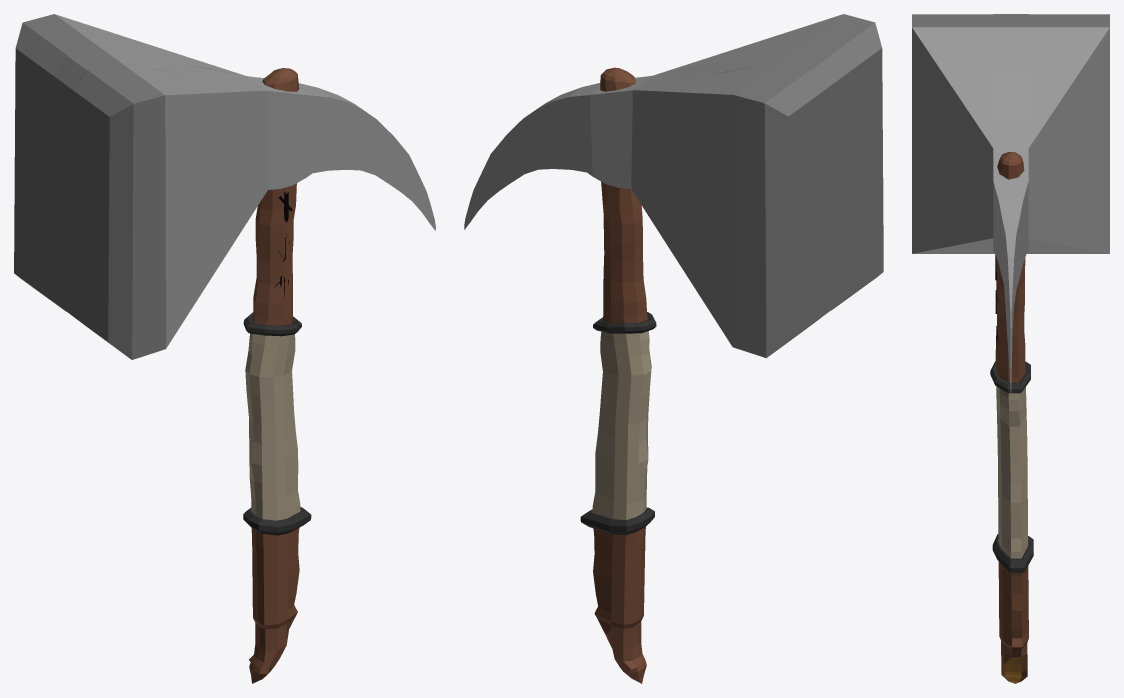
Rendered from Hammer.fbx.
3 renders of one model, left to right at view 1: azimuth 30°, elevation 25°; view 2: azimuth 150°, elevation 25°; view 3: azimuth 270°, elevation 25°, orthographic. The views are drawn at different scales.
Visible parts, largest first — view 1: Ouch, Handle; view 2: Ouch, Handle; view 3: Ouch, Handle.
Boxes of the visible parts, x1,y1,x2,y2 form: Ouch: (14, 14, 435, 359); Handle: (243, 68, 311, 683); Ouch: (464, 14, 883, 358); Handle: (580, 67, 656, 683); Ouch: (912, 14, 1109, 396); Handle: (990, 152, 1033, 683).
Bounding box in the file's own units: 46.25 × 78.6 × 23.75.
